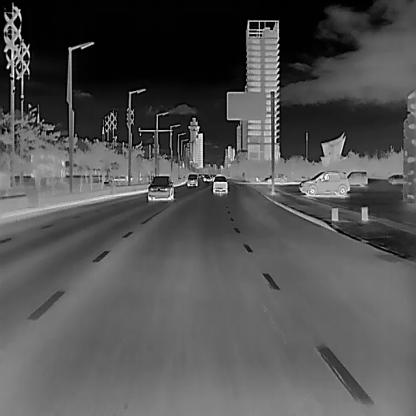car: (298, 169, 350, 197), (146, 174, 174, 200), (347, 170, 368, 186), (212, 174, 227, 193), (265, 171, 287, 183), (389, 172, 402, 184), (186, 172, 196, 186)
